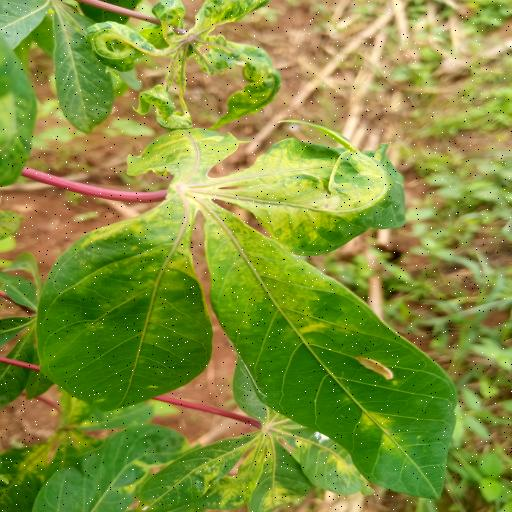Cassava_Mosaic: (29, 122, 474, 500)
